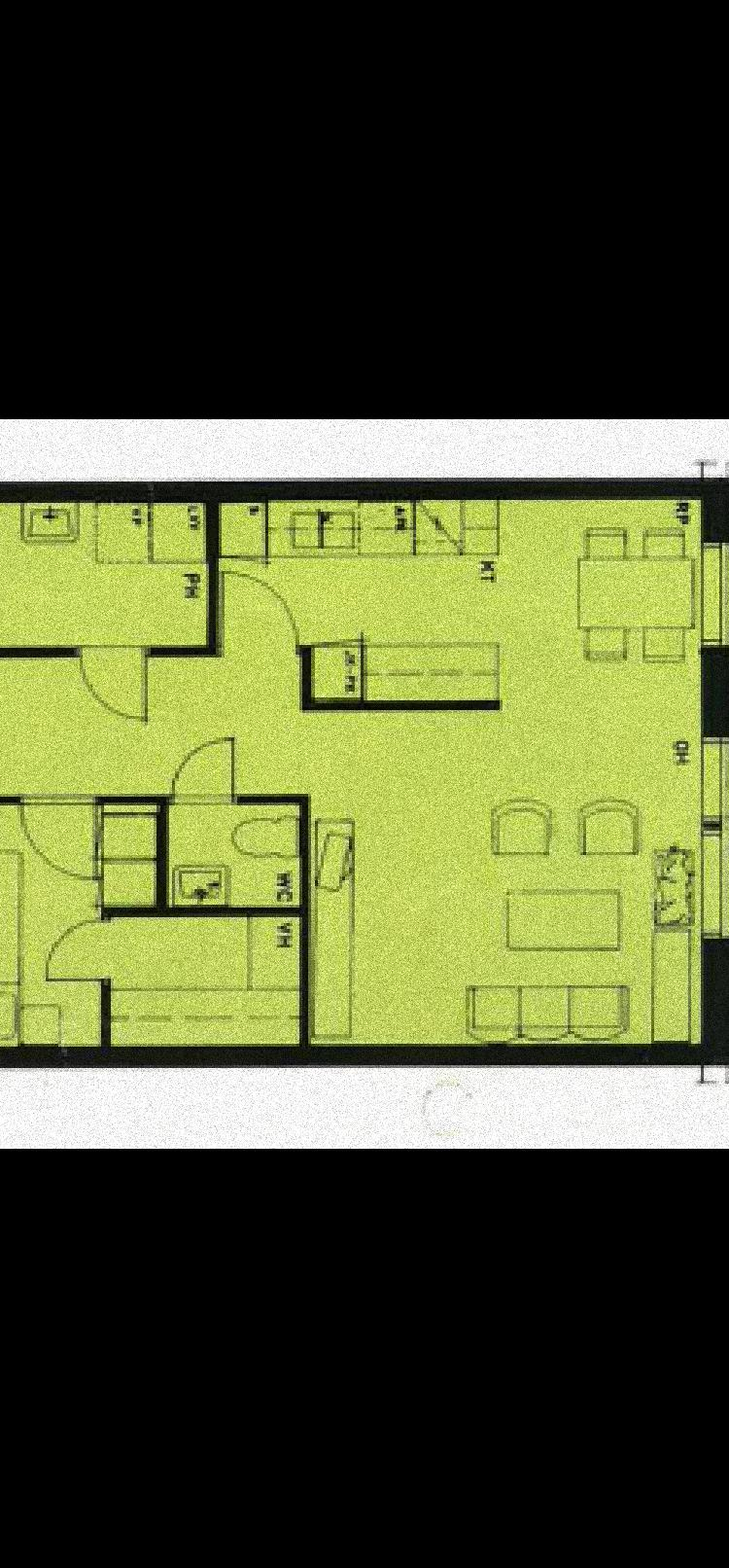door: (166, 730, 239, 827), (21, 797, 102, 883), (72, 654, 148, 734), (225, 572, 296, 656), (39, 922, 121, 987)
window: (682, 736, 724, 823), (702, 830, 729, 943), (699, 543, 727, 649)
zone: (0, 491, 694, 1036), (0, 808, 298, 1041), (0, 505, 201, 640), (167, 808, 296, 902)
